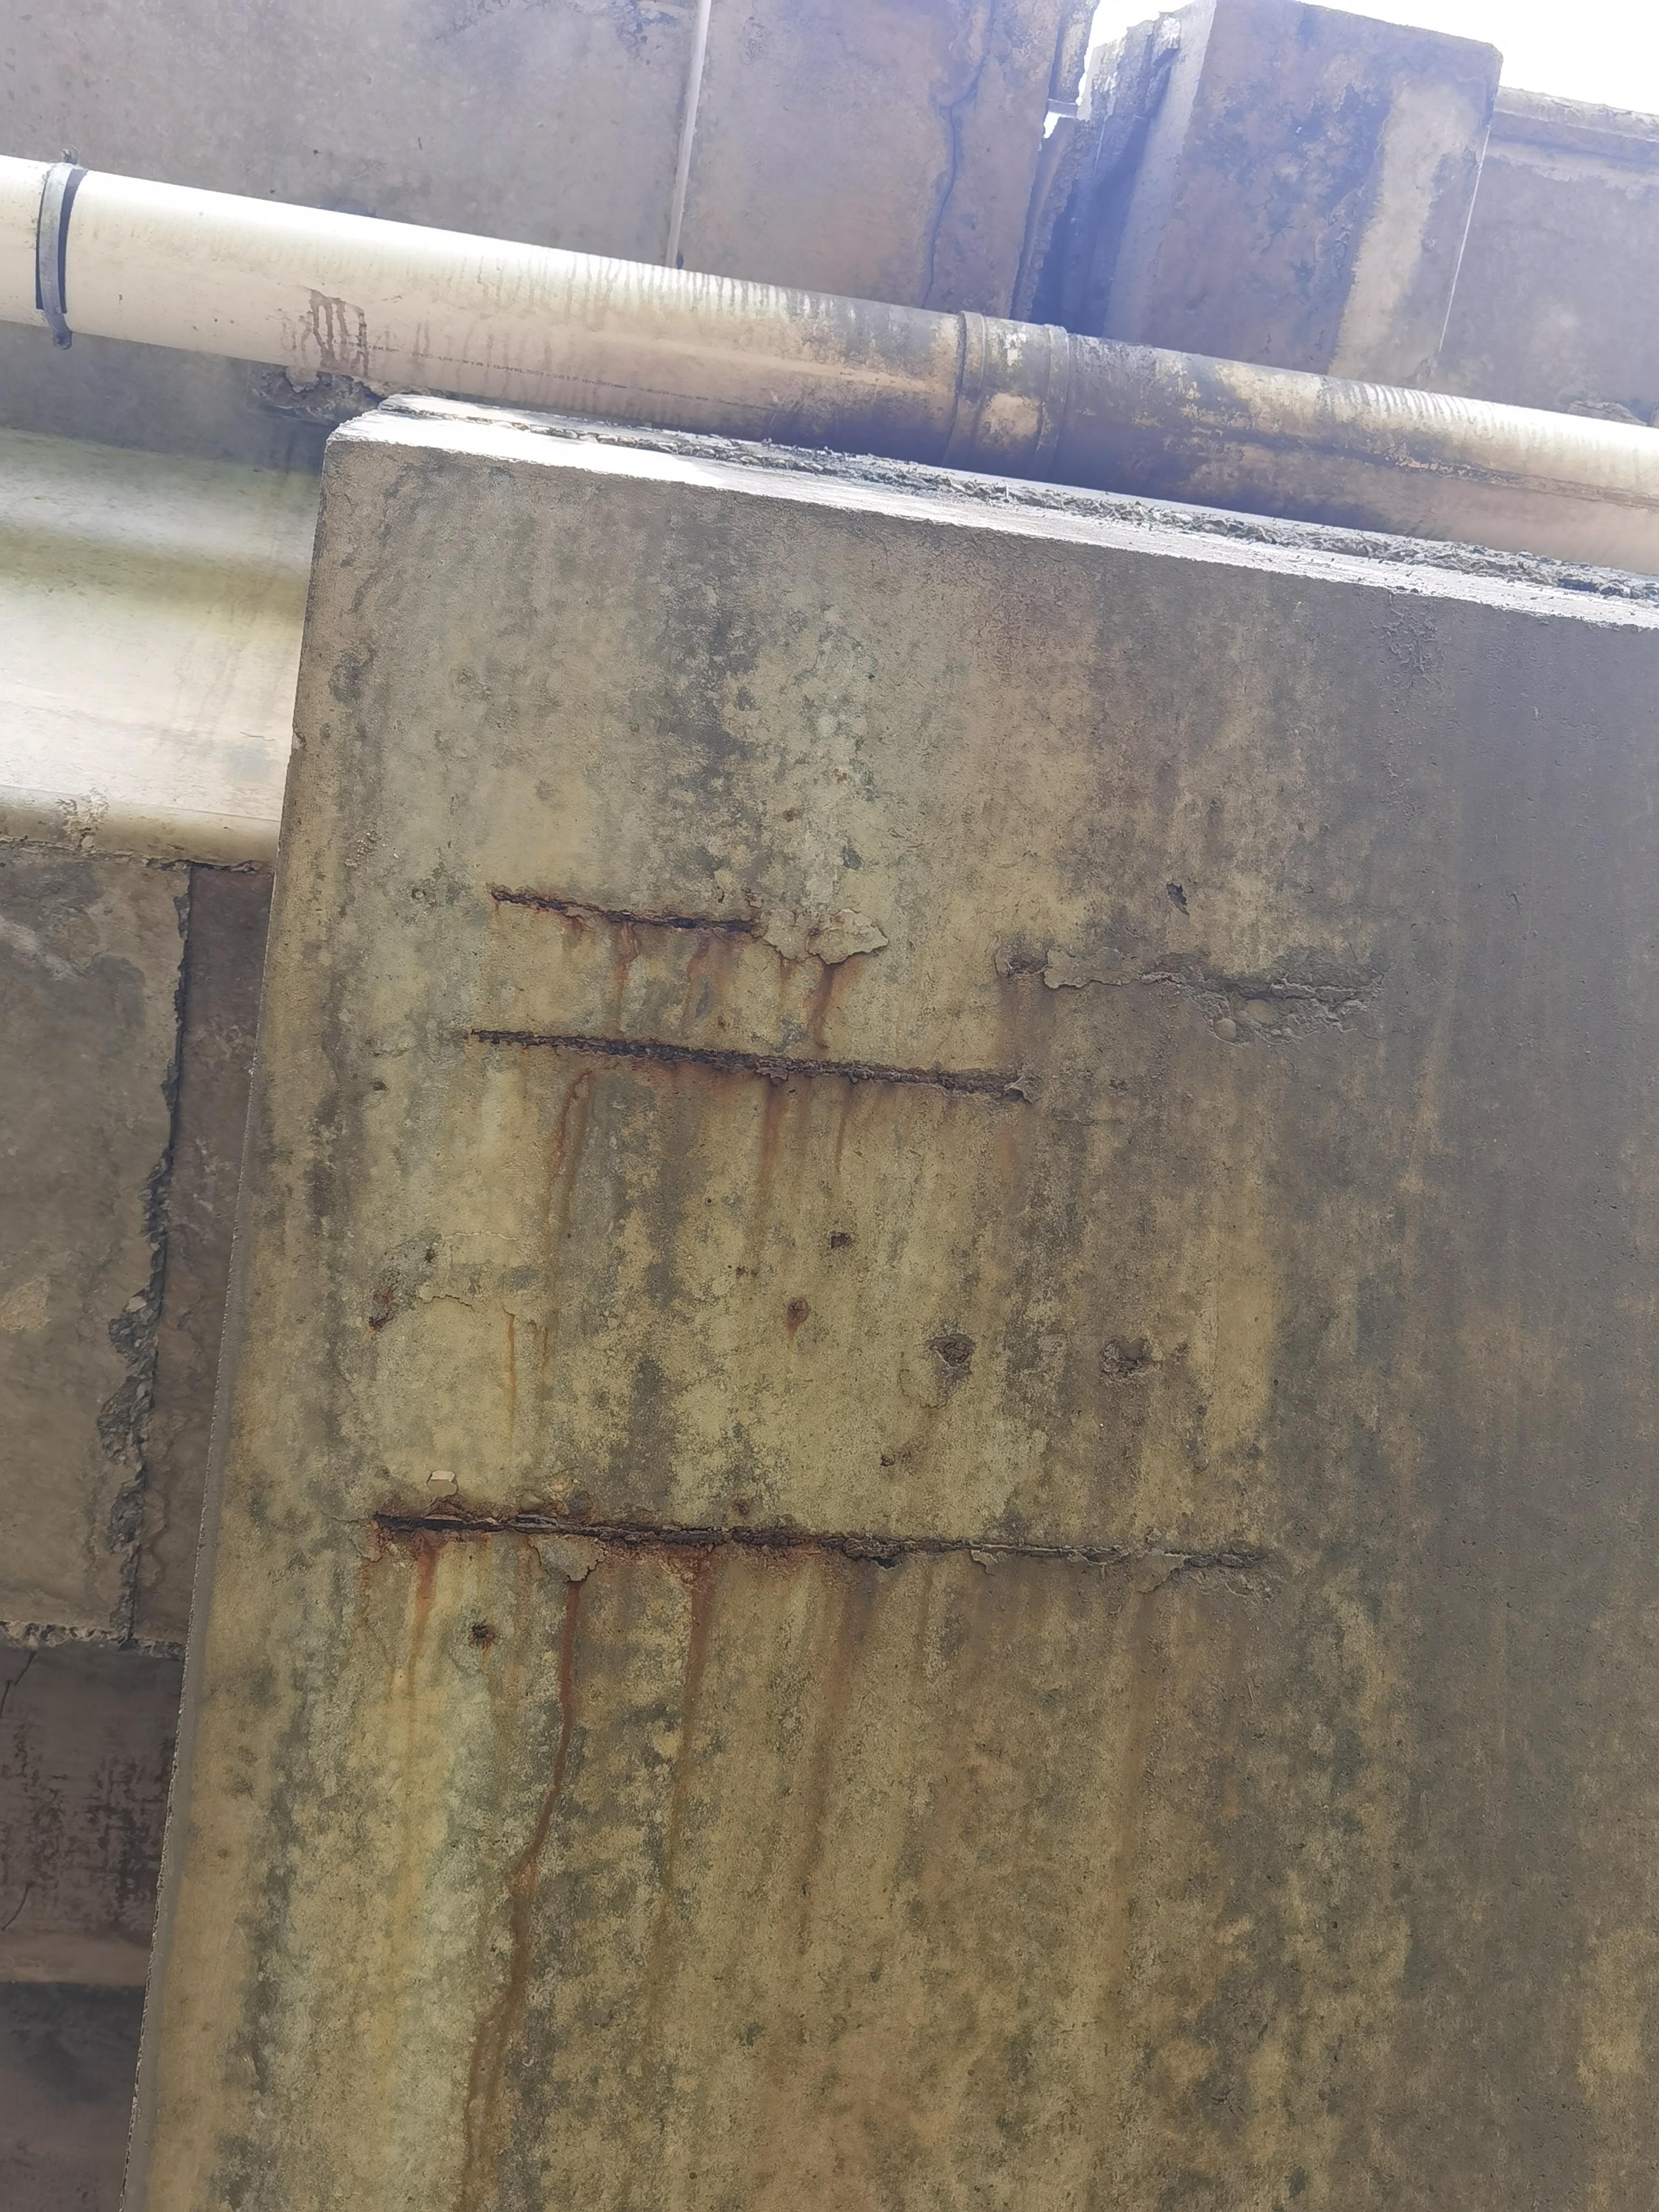corrosion: (1326, 73, 1485, 376)
crack: (918, 2, 1000, 307)
rebar: (378, 1512, 1256, 1571), (477, 1029, 1023, 1106), (495, 888, 755, 934), (1159, 972, 1352, 1003)
separation: (315, 1467, 458, 1562), (416, 1231, 554, 1317), (765, 904, 890, 965), (896, 1346, 965, 1411), (1044, 948, 1145, 991), (530, 1531, 606, 1583), (1126, 1548, 1194, 1594)
spall: (1175, 66, 1391, 310), (94, 1158, 171, 1635), (1152, 944, 1382, 1049), (434, 0, 694, 64), (368, 1228, 439, 1332), (261, 368, 390, 423), (509, 1467, 596, 1527), (1558, 390, 1659, 428), (1100, 1336, 1164, 1383), (995, 946, 1046, 979), (927, 1332, 972, 1367)
